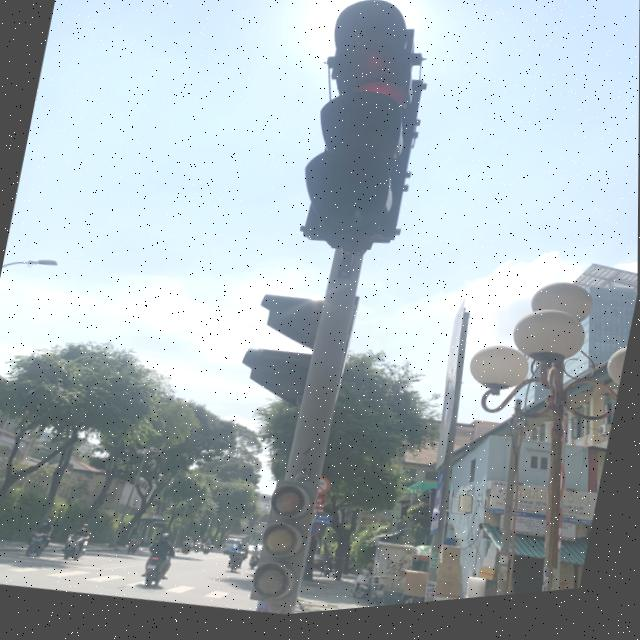Red: (280, 49, 438, 265)
